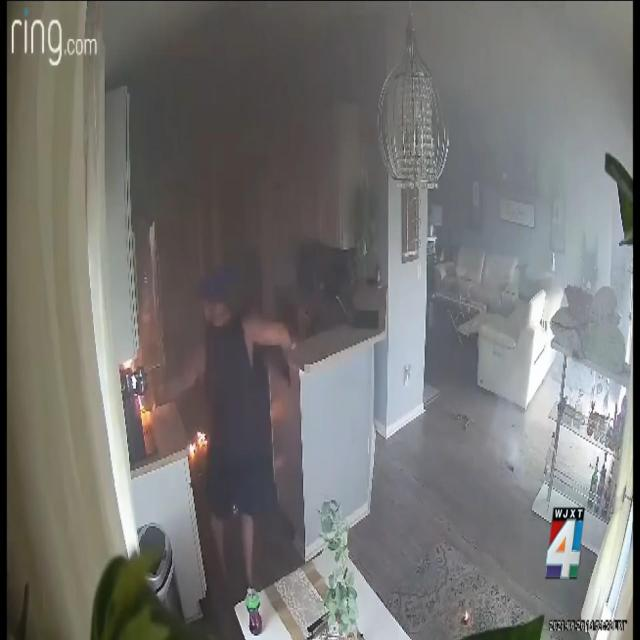fire: (189, 431, 207, 455)
